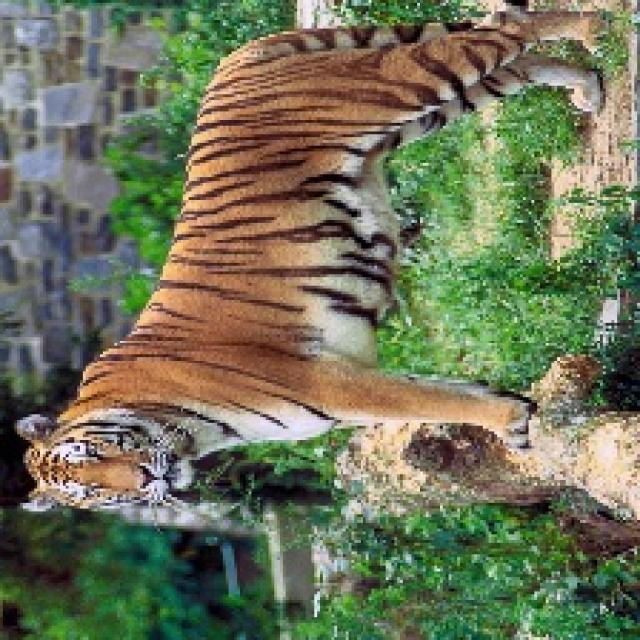animal: (56, 31, 588, 548)
